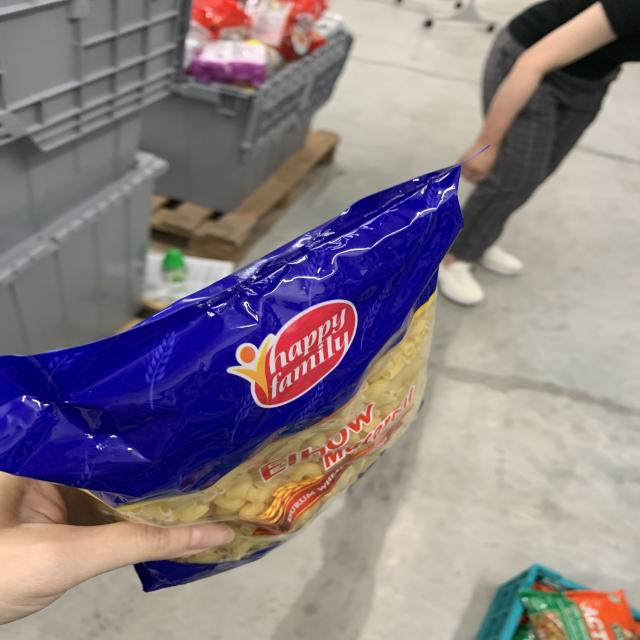object_name: (47, 330, 461, 545)
